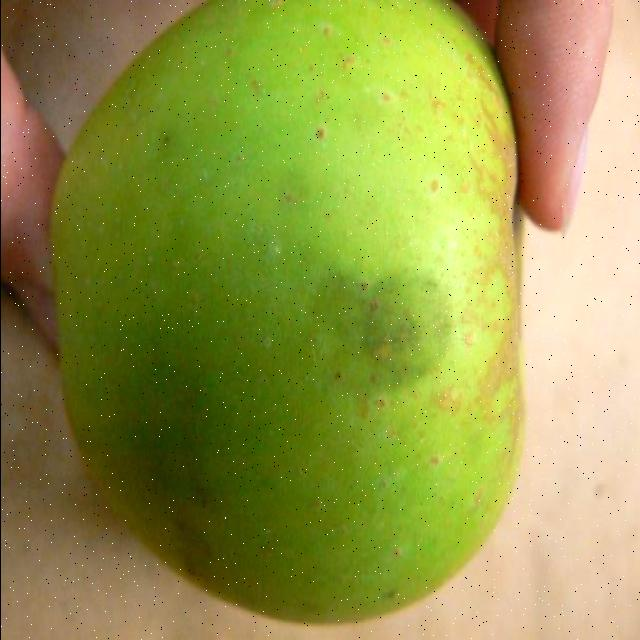BLOTCH: (24, 0, 574, 640)
